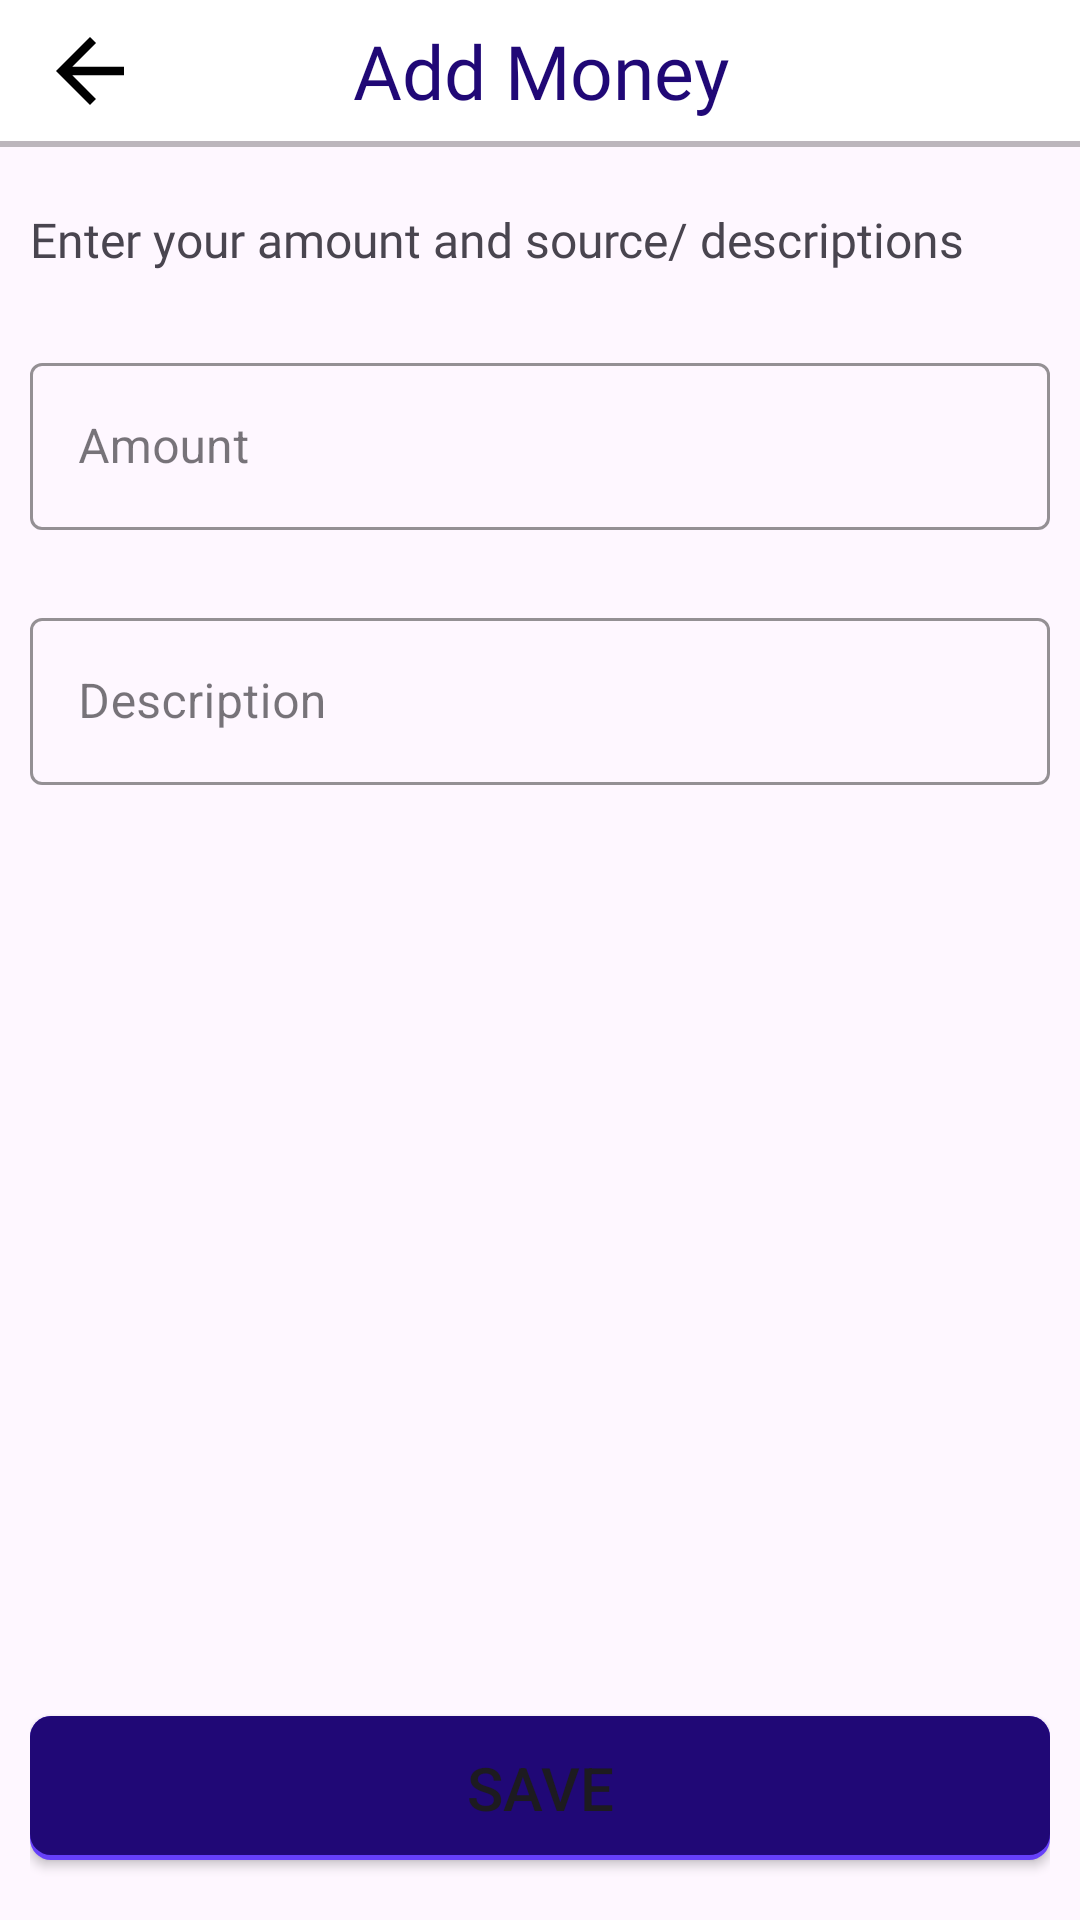

Screen size 1080 × 1920. Icon name, then its center in pixels as [x,y]:
icarrow back: [90,71]
